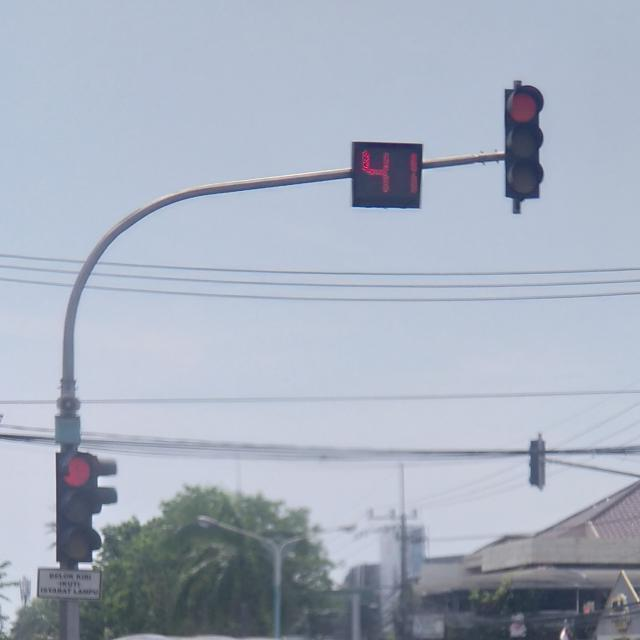red_light: (54, 450, 116, 560), (503, 80, 542, 210)
